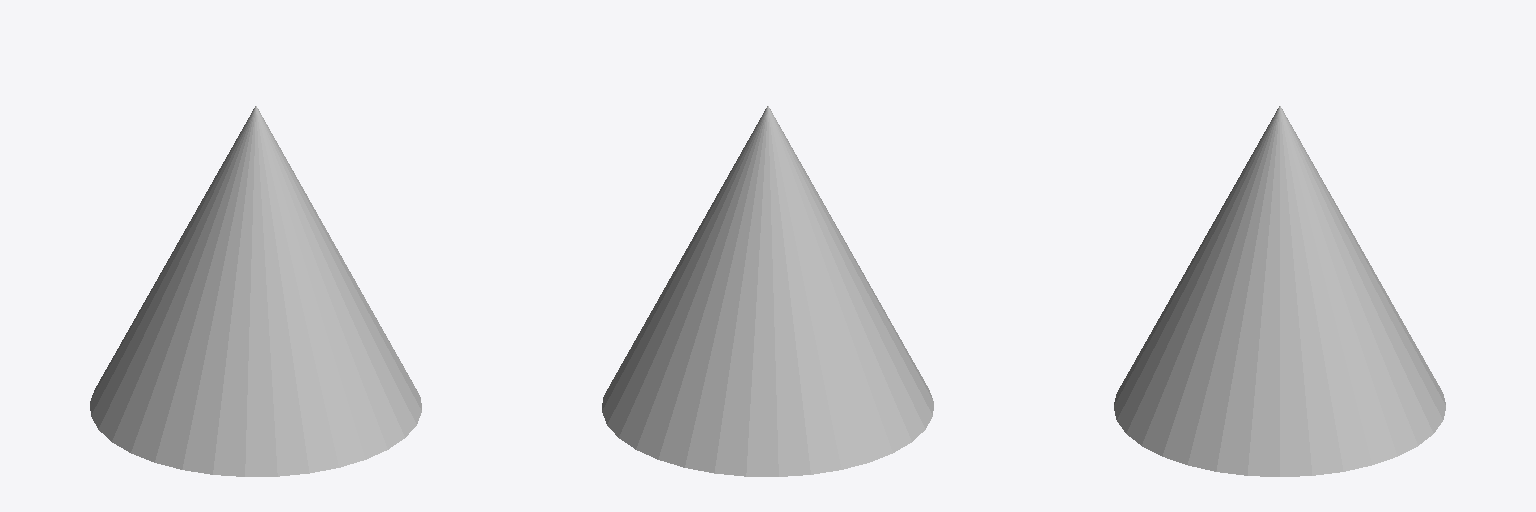
The model's file is finish4.obj.
The picture shows the model from 3 angles: view 1: azimuth 30°, elevation 25°; view 2: azimuth 150°, elevation 25°; view 3: azimuth 270°, elevation 25°; orthographic projection.
Visible parts, largest first — view 1: Cone; view 2: Cone; view 3: Cone.
Part boxes in pixels (bbox=[...]): Cone: bbox=[90, 106, 421, 476]; Cone: bbox=[602, 106, 933, 476]; Cone: bbox=[1114, 106, 1445, 476].
Bounding box in the file's own units: 1.02 × 1.02 × 1.02.